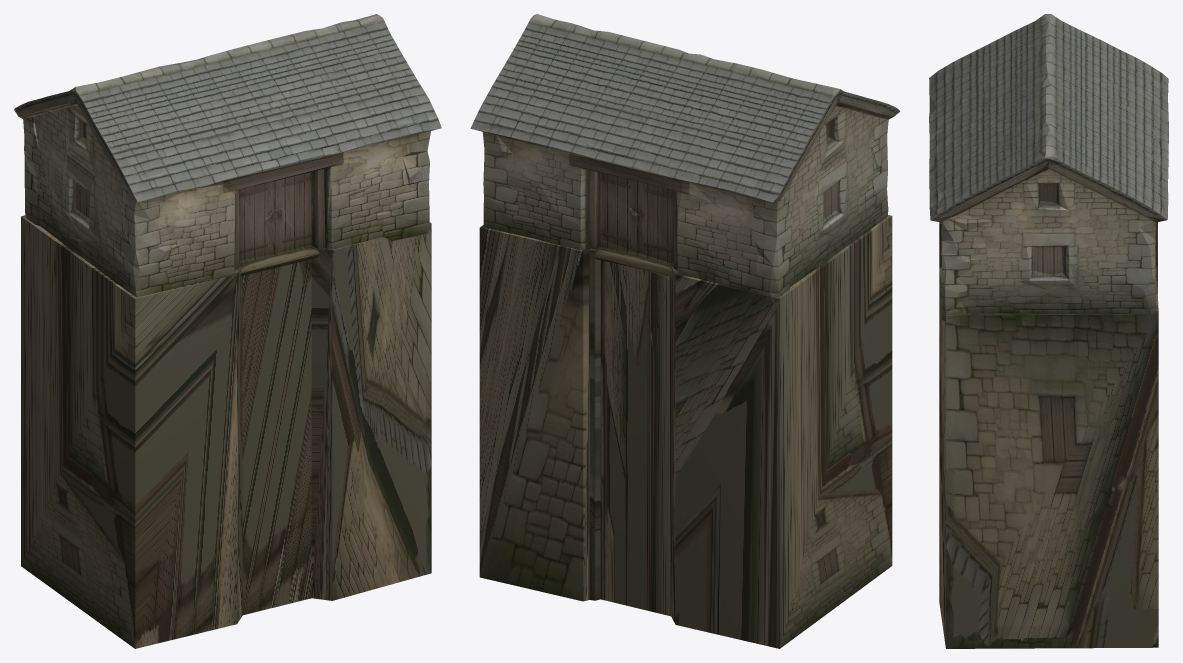
Rendered from byre.glb.
The picture shows the model from 3 angles, left to right: view 1: azimuth 30°, elevation 25°; view 2: azimuth 150°, elevation 25°; view 3: azimuth 270°, elevation 25°; orthographic projection. The views are drawn at different scales.
Parts seen in each view (by area): view 1: byre_export; view 2: byre_export; view 3: byre_export.
Part boxes in pixels (left/top/right/bottom): byre_export: left=14, top=14, right=441, bottom=648; byre_export: left=470, top=14, right=900, bottom=648; byre_export: left=929, top=14, right=1168, bottom=648.
Size of the model in its own units: 17 by 27.55 by 12.09.
2 materials, 2 textured.
